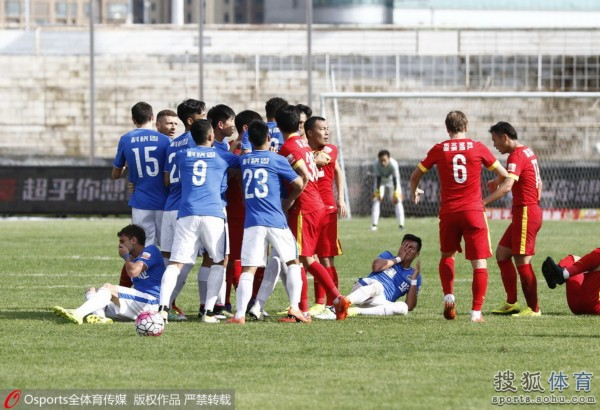fall: (541, 221, 599, 328)
